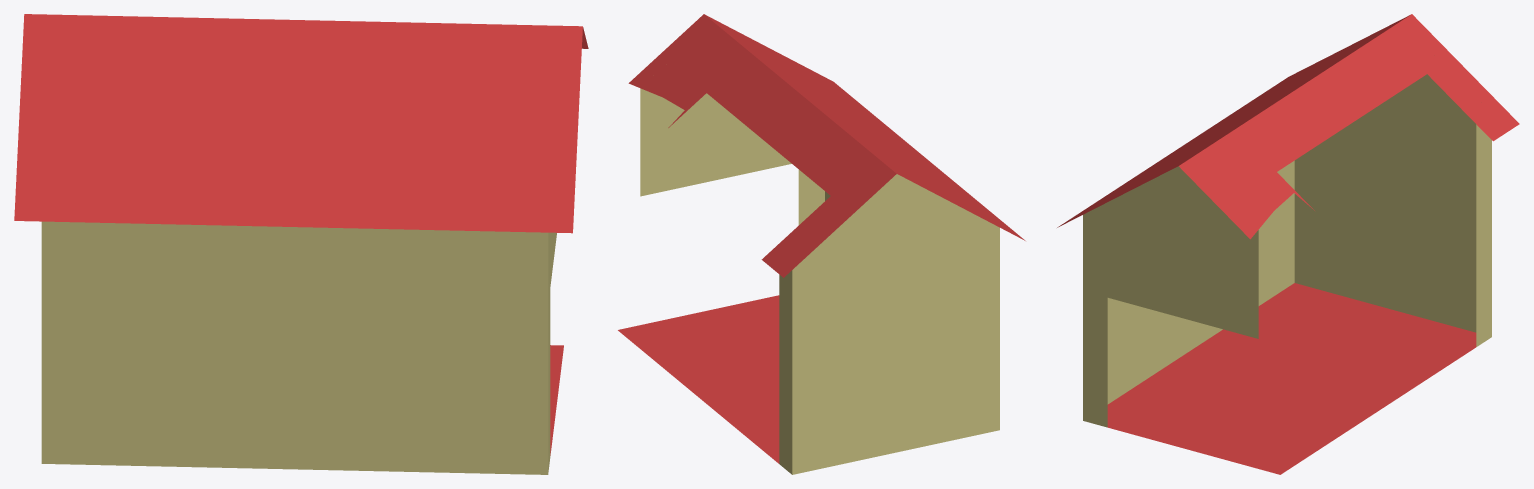
3 renders of one model, left to right at view 1: azimuth 30°, elevation 25°; view 2: azimuth 150°, elevation 25°; view 3: azimuth 270°, elevation 25°, orthographic. The views are drawn at different scales.
Size of the model in its own units: 18.18 by 17.36 by 11.99.
